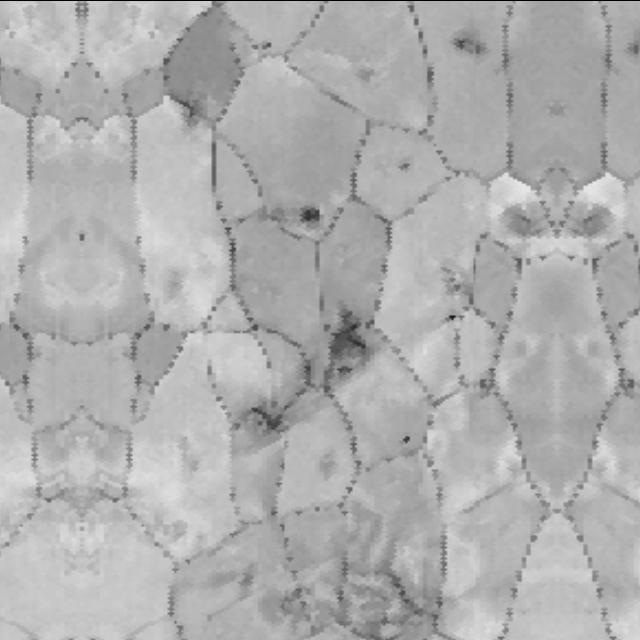good_void: (231, 298, 390, 450), (267, 520, 459, 640), (560, 188, 627, 250), (494, 189, 550, 246), (206, 549, 263, 600), (428, 253, 472, 303), (176, 96, 211, 130), (452, 31, 486, 57), (393, 422, 422, 451), (299, 201, 327, 228), (470, 367, 496, 396), (394, 155, 419, 180), (255, 34, 279, 56), (621, 369, 640, 393), (445, 310, 463, 328), (631, 39, 640, 50)
